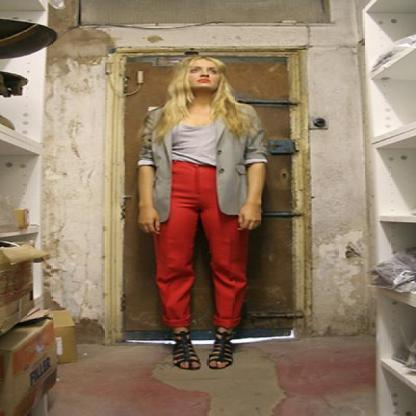jacket: (138, 130, 266, 224)
pants: (155, 158, 256, 333)
shirt: (164, 116, 227, 163)
shoe: (164, 321, 244, 370)
